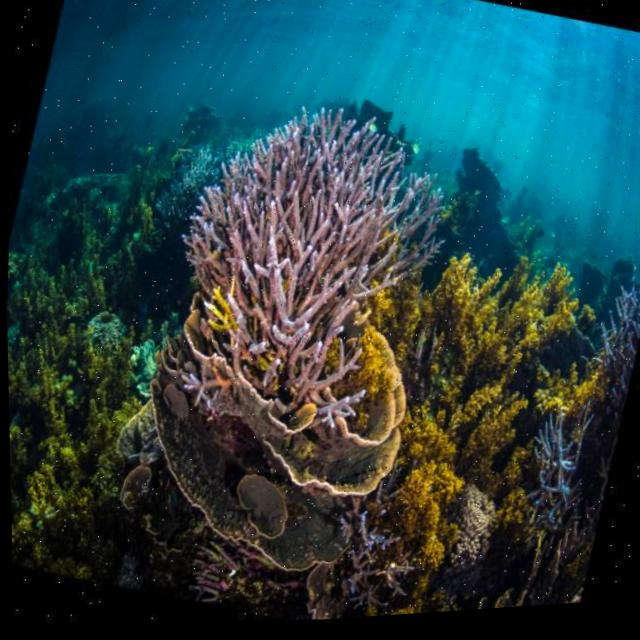Healthy Coral: (145, 96, 444, 448), (102, 292, 426, 610), (350, 233, 597, 599)
